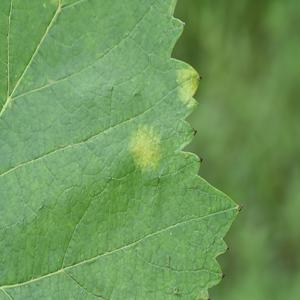Folha: (0, 0, 242, 299)
Fungo: (127, 122, 162, 174), (179, 59, 201, 110), (238, 204, 242, 212), (221, 271, 225, 278), (193, 129, 196, 136), (198, 75, 202, 80), (200, 157, 202, 163)
